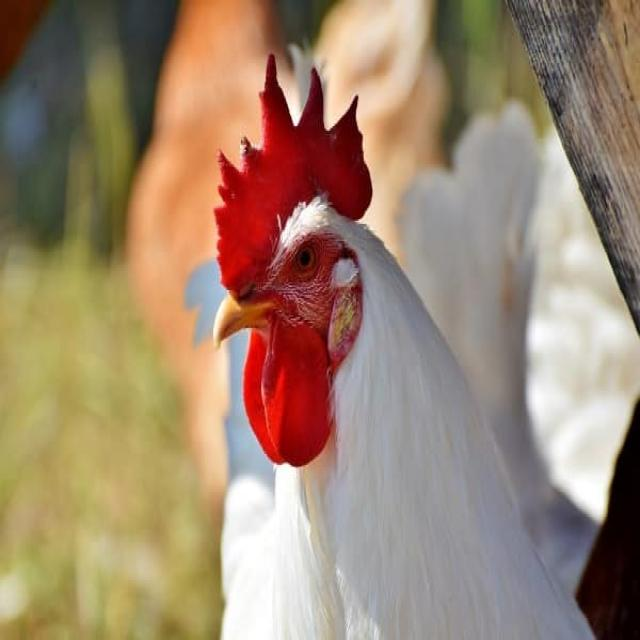Healthy: (212, 52, 594, 640)
